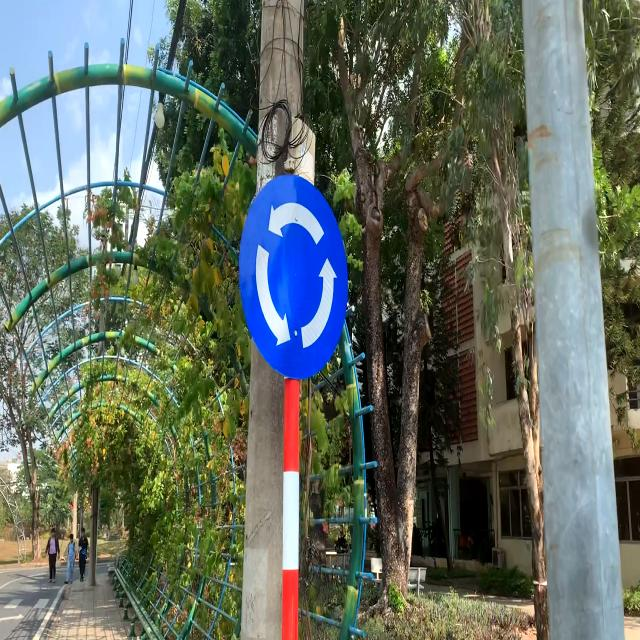R.303: (241, 166, 354, 384)
